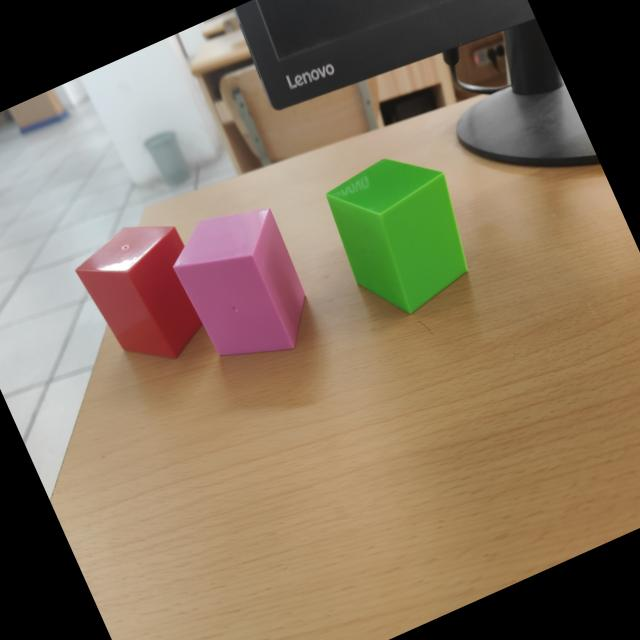green: (328, 159, 468, 316)
pink: (175, 209, 307, 358)
red: (77, 226, 203, 360)
